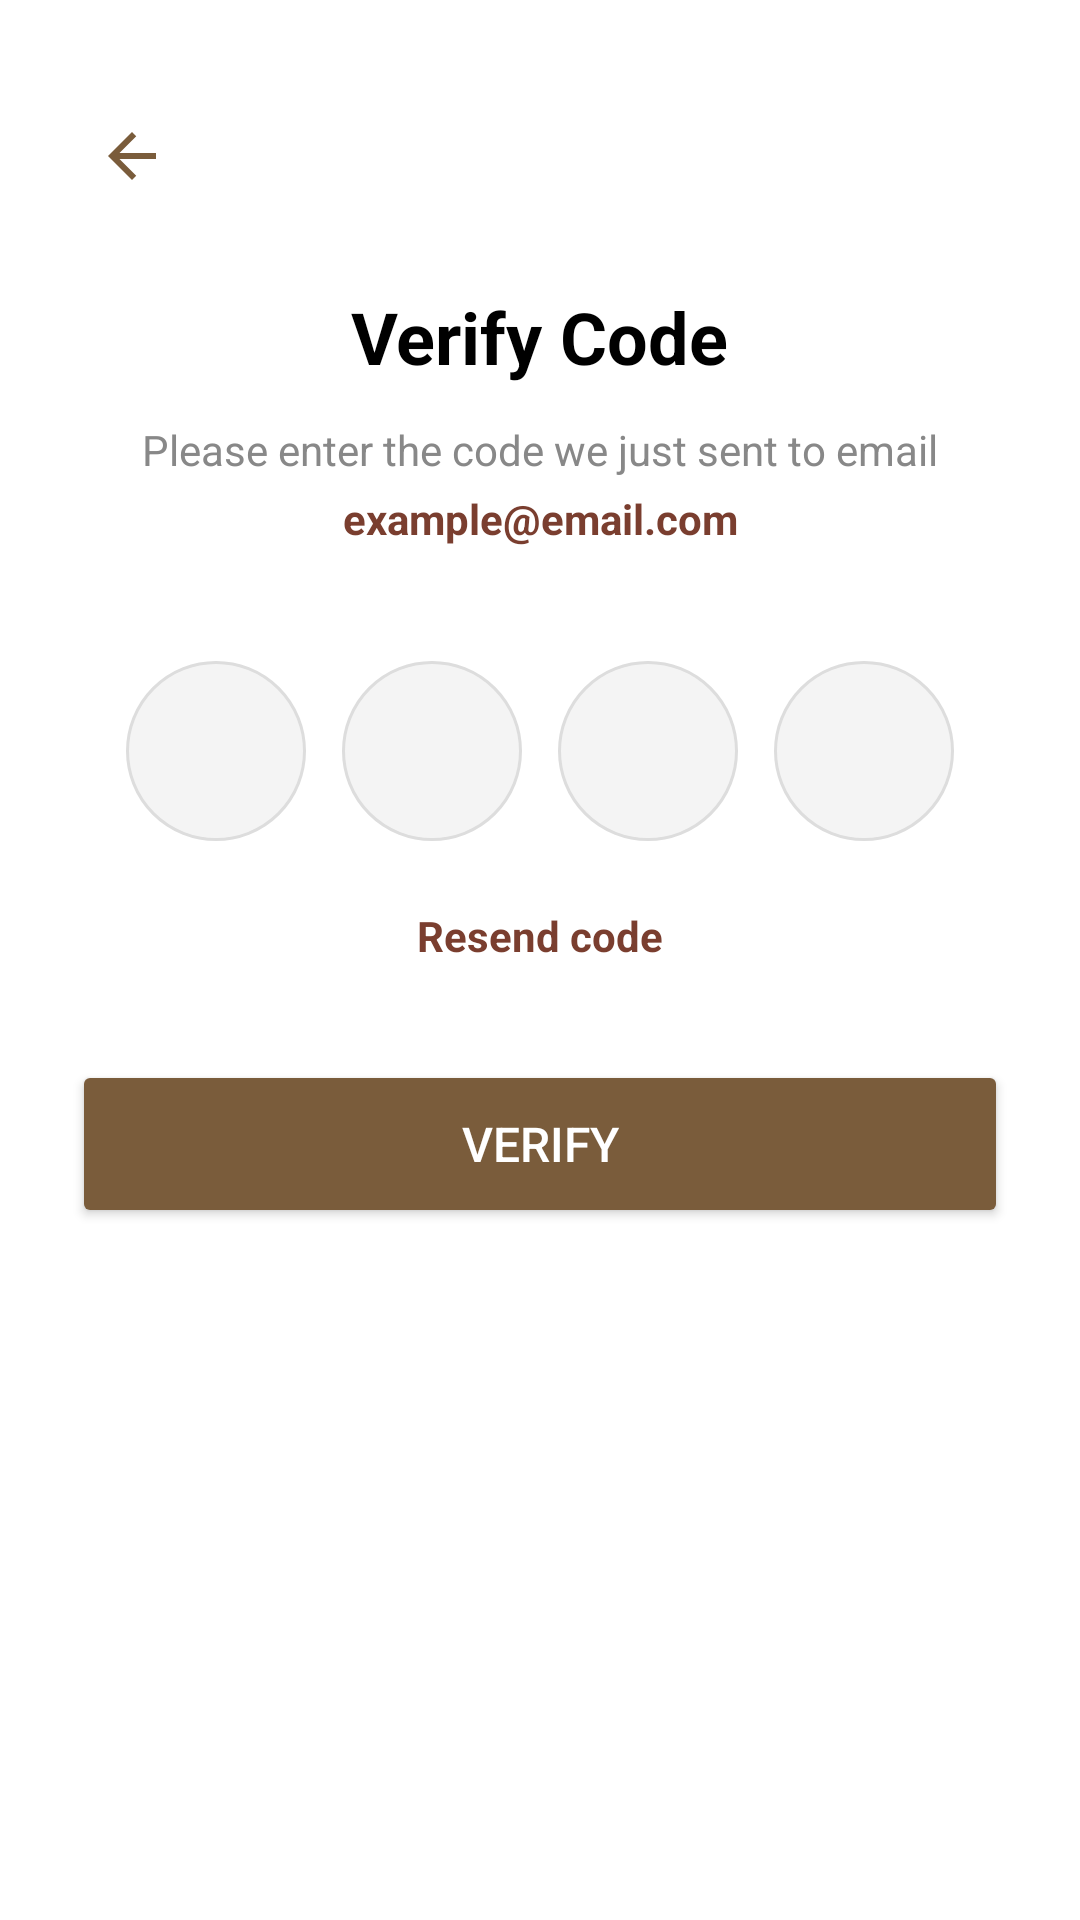

Named icons in this screenshot (1080x1920) and their centers, (x=x, y=y):
arrow back: (x=132, y=156)
